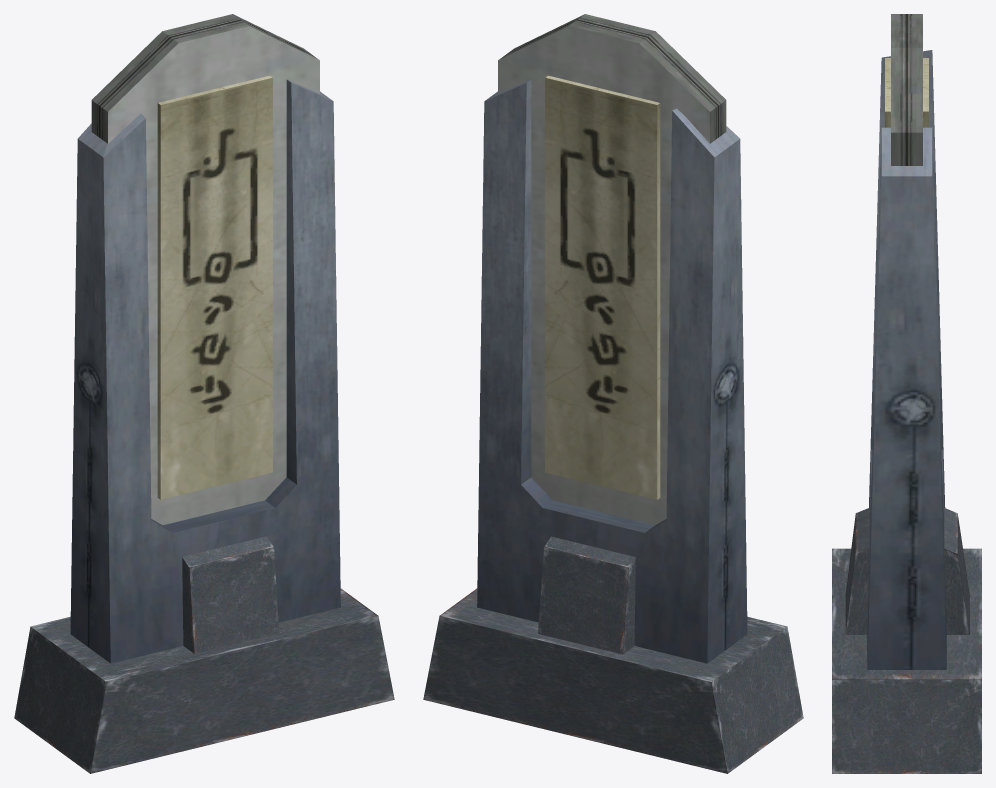
Rendered from mun_all_sign_shop_s04_l0.fbx.
3 views of the same model, side by side, from view 1: azimuth 30°, elevation 25°; view 2: azimuth 150°, elevation 25°; view 3: azimuth 270°, elevation 25° (orthographic).
Parts seen in each view (by area): view 1: mesh_node; view 2: mesh_node; view 3: mesh_node.
Boxes of the visible parts, box(x1,y1,x2,y2) form: mesh_node: box(14, 14, 394, 773); mesh_node: box(423, 14, 803, 773); mesh_node: box(832, 14, 981, 773).
Size of the model in its own units: 0.7104 by 1.52 by 0.3075.
